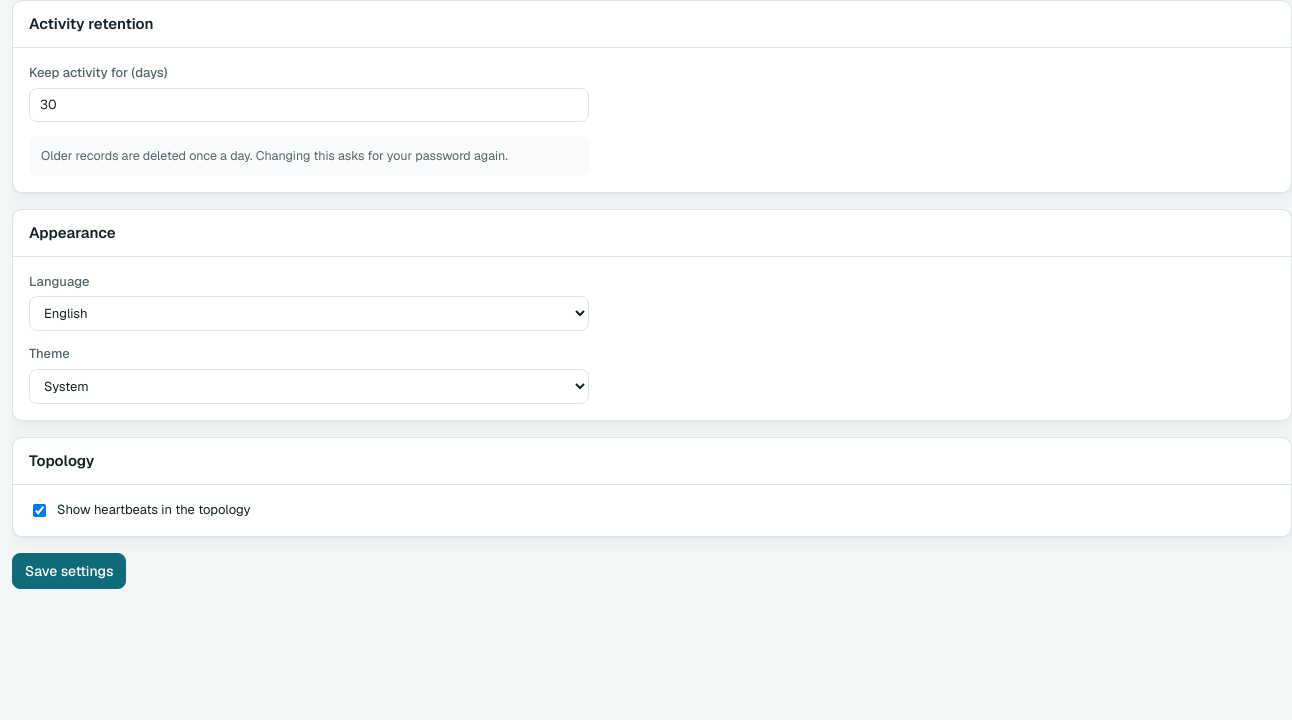
Scenario: previews a theme immediately and rolls back a failed PATCH without reauth
Select "Dark" in the dropdown labelled "Theme" at (309, 387), box [29,369,589,404]
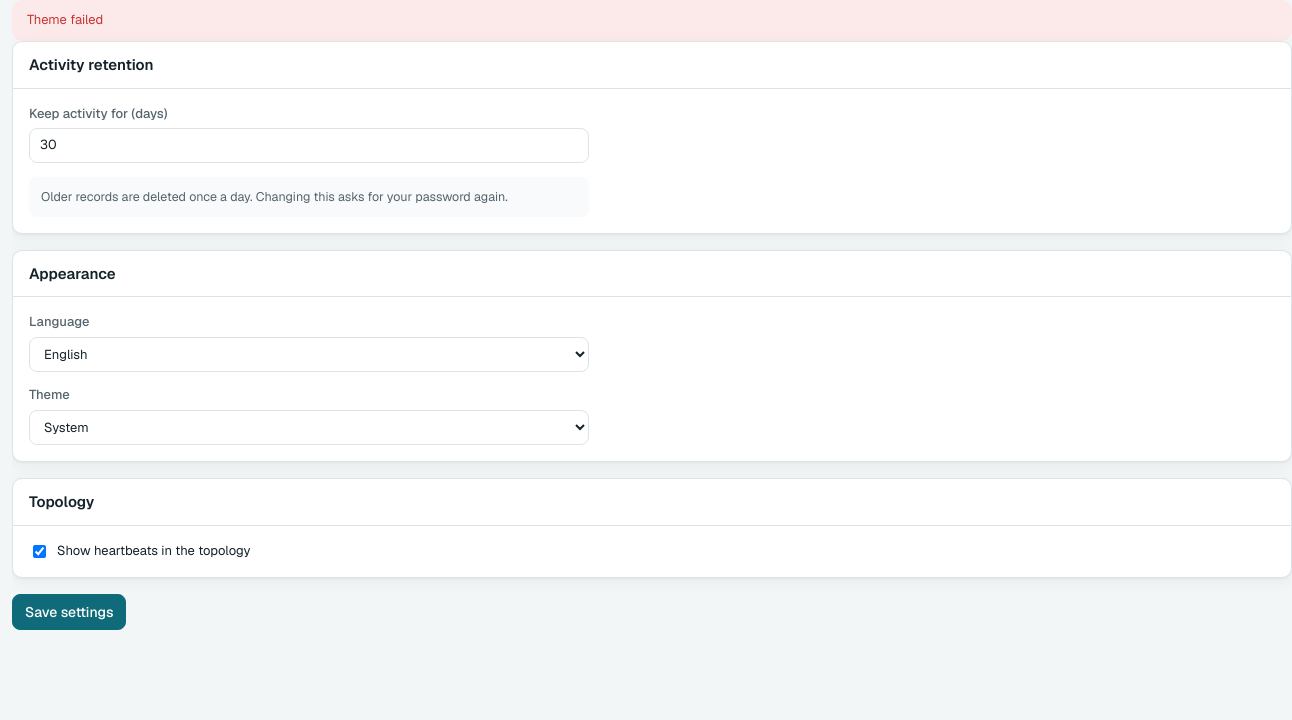
Expected: the message reads "Theme failed", [27,11,103,28]
